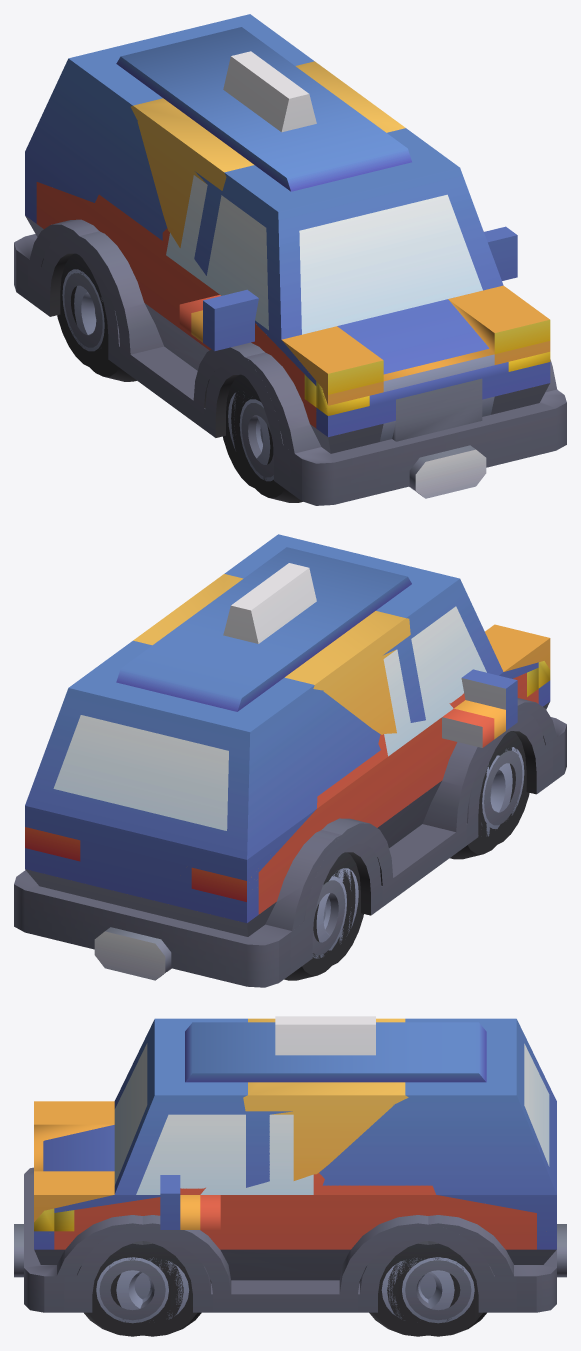
File: cars.glb
The picture shows the model from 3 angles, top to bottom: view 1: azimuth 30°, elevation 25°; view 2: azimuth 150°, elevation 25°; view 3: azimuth 270°, elevation 25°; orthographic projection. The views are drawn at different scales.
Visible parts, largest first — view 1: body (×3), wheel-front-right (×3), wheel-back-right (×3); view 2: body (×3), wheel-back-right (×3), wheel-front-right (×3); view 3: body (×3), wheel-back-left (×3), wheel-front-left (×3).
Boxes of the visible parts, left/top/right/bottom form: body (×3): left=14, top=14, right=566, bottom=505; wheel-front-right (×3): left=223, top=374, right=302, bottom=502; wheel-back-right (×3): left=57, top=253, right=136, bottom=381; body (×3): left=14, top=534, right=566, bottom=987; wheel-back-right (×3): left=284, top=852, right=363, bottom=980; wheel-front-right (×3): left=450, top=731, right=529, bottom=859; body (×3): left=14, top=1016, right=566, bottom=1312; wheel-back-left (×3): left=359, top=1241, right=486, bottom=1336; wheel-front-left (×3): left=84, top=1241, right=211, bottom=1336.
Bounding box in the file's own units: 1.5 × 1.5 × 2.75.
1 material, 1 textured.
